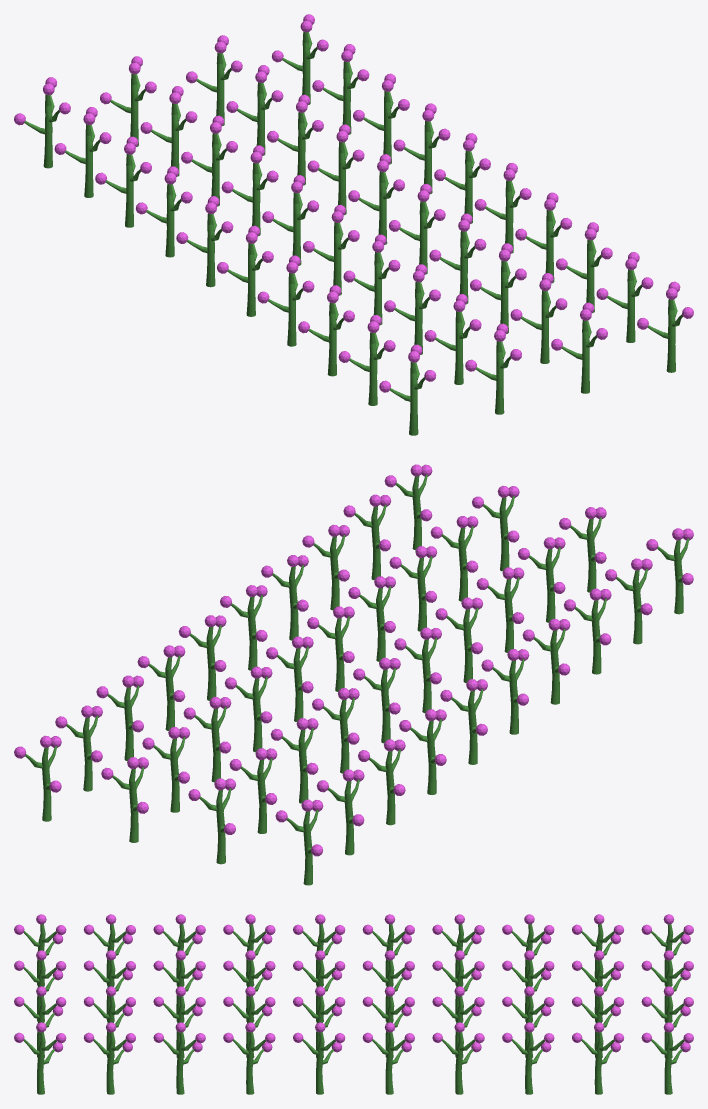
The model's file is GardenBed_PlantsGlow 2.fbx.
The picture shows the model from 3 angles, top to bottom: view 1: azimuth 30°, elevation 25°; view 2: azimuth 150°, elevation 25°; view 3: azimuth 270°, elevation 25°; orthographic projection. The views are drawn at different scales.
Visible parts, largest first — view 1: GreenHouse1.001; view 2: GreenHouse1.001; view 3: GreenHouse1.001.
Part boxes in pixels (left/top/right/bottom): GreenHouse1.001: left=14, top=14, right=693, bottom=435; GreenHouse1.001: left=14, top=464, right=693, bottom=885; GreenHouse1.001: left=14, top=914, right=693, bottom=1094.
Size of the model in its own units: 154 by 40.28 by 351.
